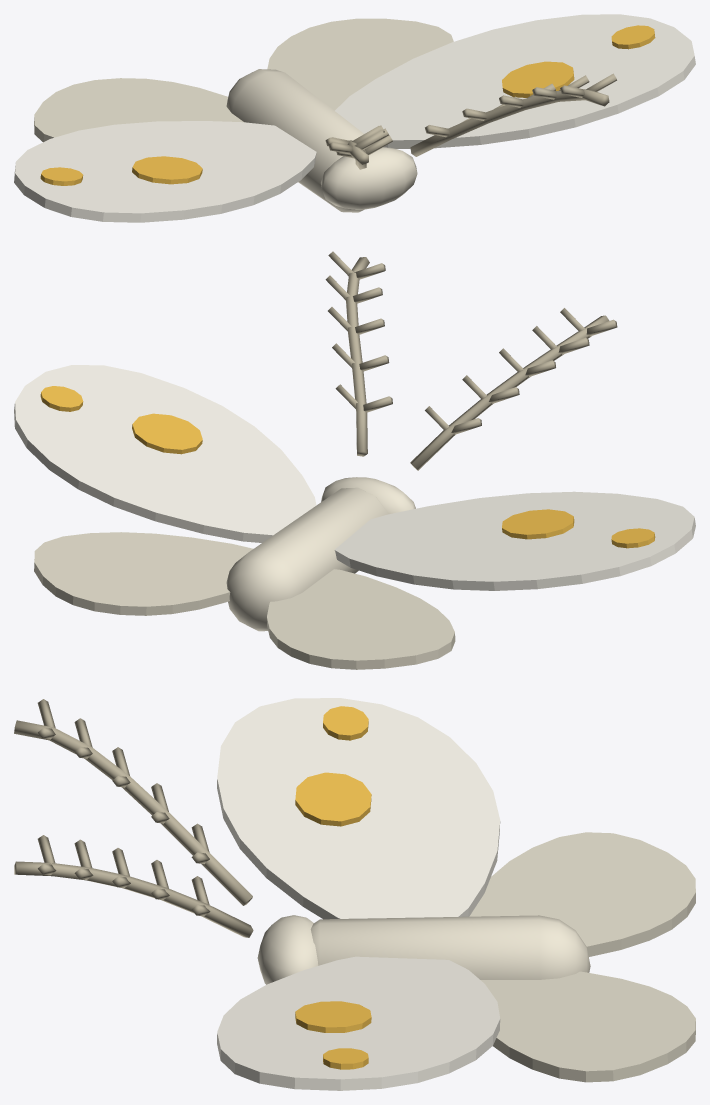
File: bug-moon-moth.glb
3 views of the same model, one above another, from view 1: azimuth 30°, elevation 25°; view 2: azimuth 150°, elevation 25°; view 3: azimuth 270°, elevation 25° (orthographic). The views are drawn at different scales.
Parts seen in each view (by area): view 1: bug; view 2: bug; view 3: bug.
Boxes of the visible parts, box(x1,y1,x2,y2) form: bug: box(14, 14, 695, 222); bug: box(14, 251, 695, 669); bug: box(14, 698, 695, 1090).
Size of the model in its own units: 0.2986 by 0.0841 by 0.2249.
